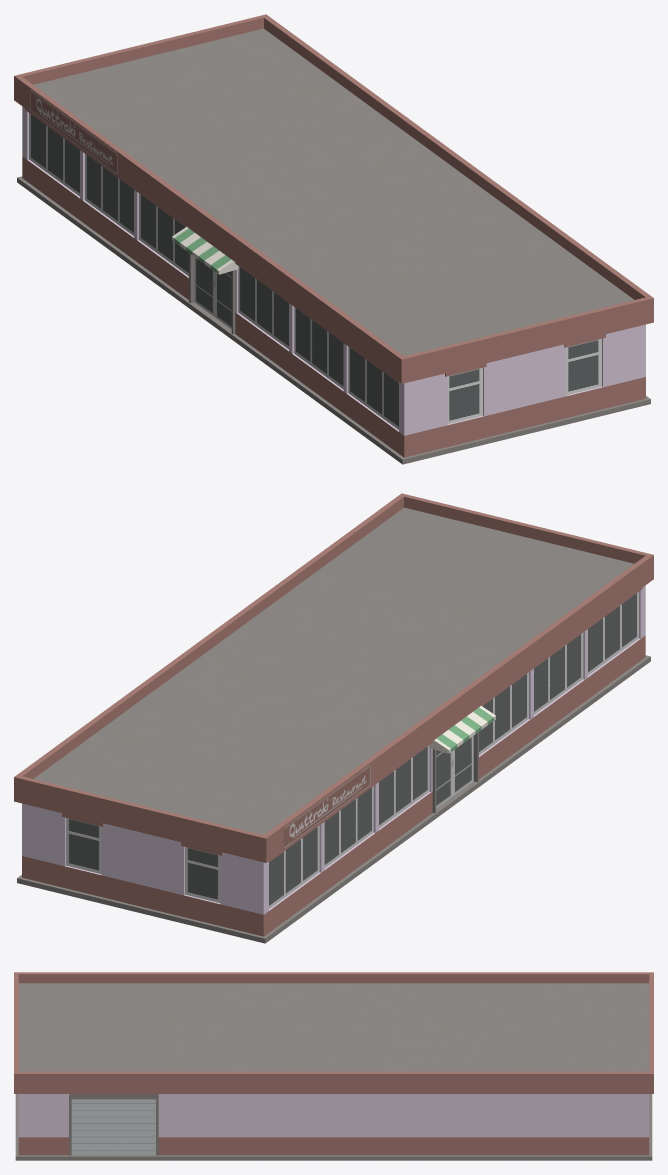
Rendered from restaurant.fbx.
3 renders of one model, top to bottom at view 1: azimuth 30°, elevation 25°; view 2: azimuth 150°, elevation 25°; view 3: azimuth 270°, elevation 25°, orthographic. The views are drawn at different scales.
Visible parts, largest first — view 1: sptp_building_22; view 2: sptp_building_22; view 3: sptp_building_22.
Part boxes in pixels (x1,y1,x2,y2): sptp_building_22: [14, 14, 653, 464]; sptp_building_22: [14, 493, 653, 943]; sptp_building_22: [14, 972, 653, 1160].
Size of the model in its own units: 862 by 331 by 2187.
1 material, 1 textured.
